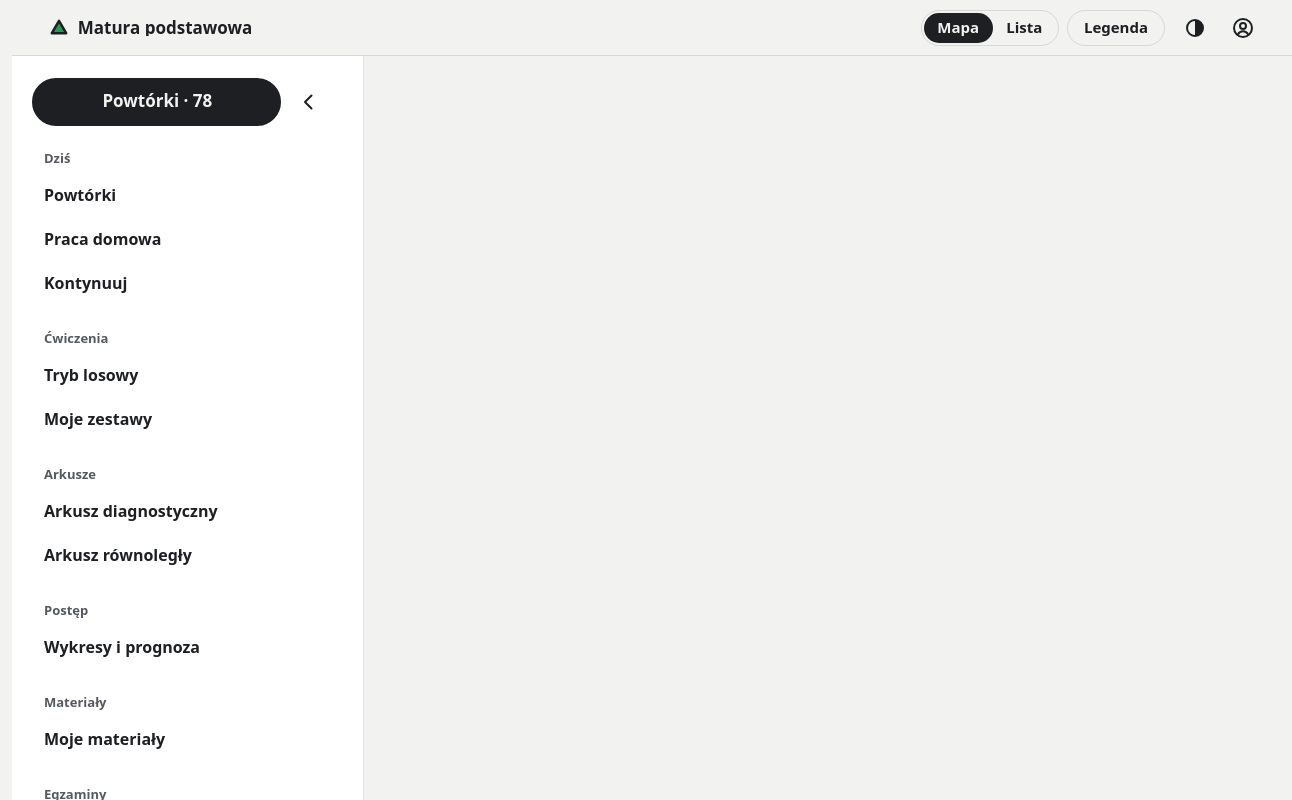
Test: ExamView on a computer › shows the legend in place of the menu, also from a folded menu
The width and height of the screenshot is (1292, 800).
Click the button named "Zwiń menu": (309, 102) [287, 80, 331, 124]
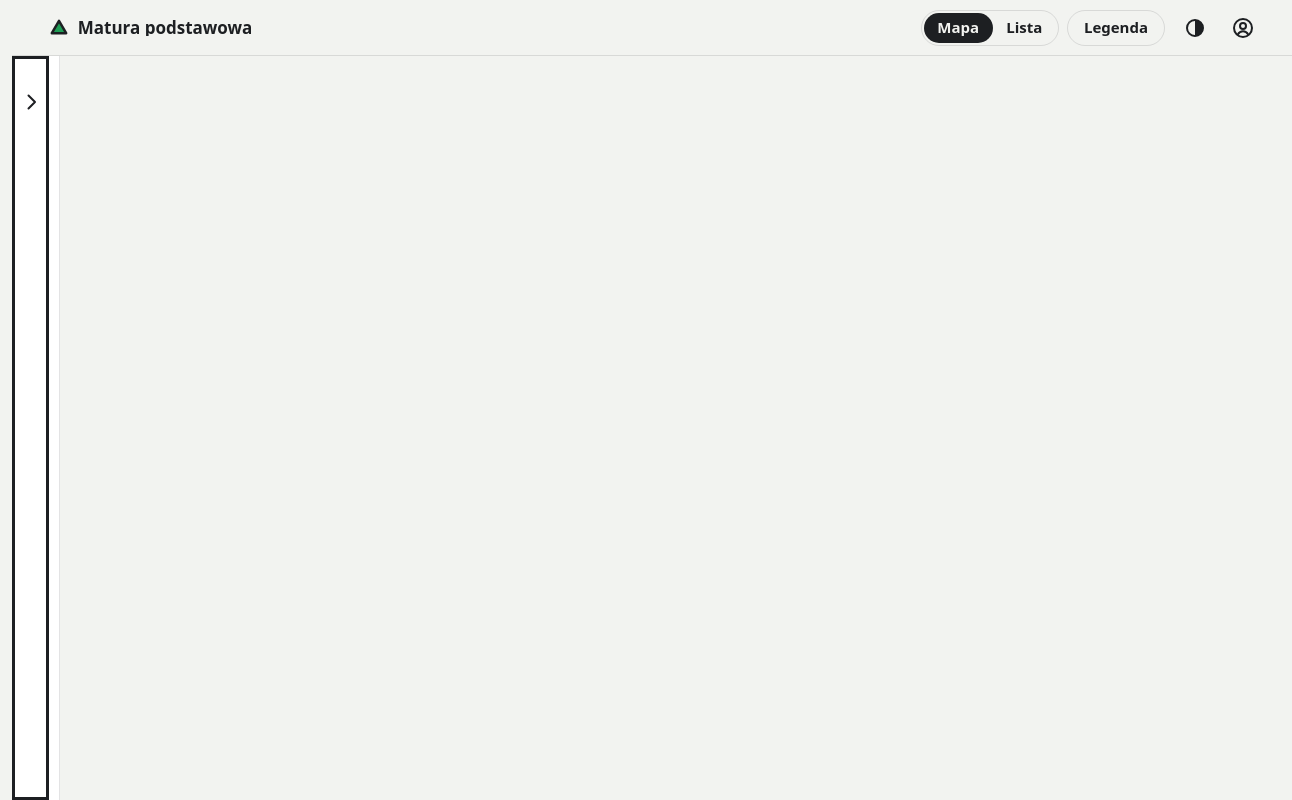
Click the button "Legenda": (1116, 28) [1067, 10, 1165, 46]
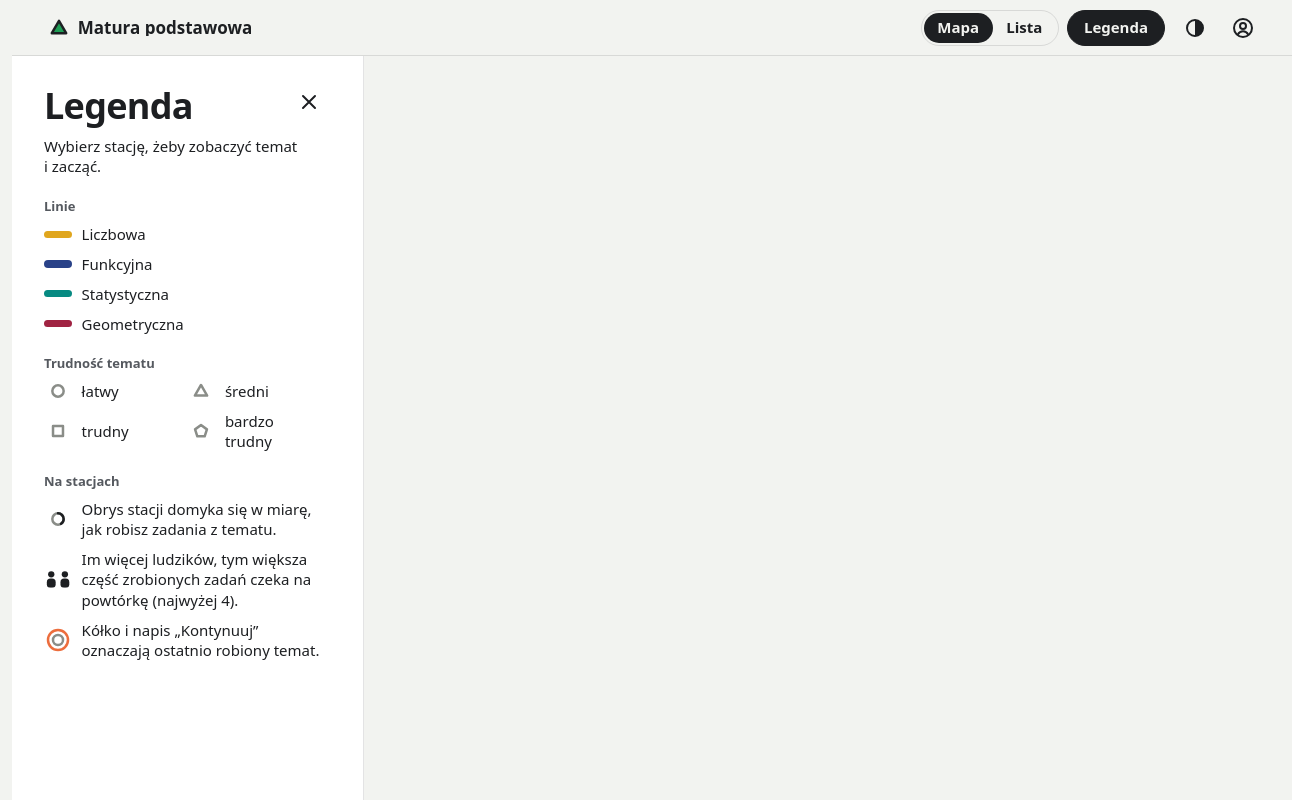
Expected: the heading "Legenda" is shown, [44, 88, 193, 124]
Click the button named "Zamknij legendę": (309, 102) [287, 80, 331, 124]
(page scrolled)
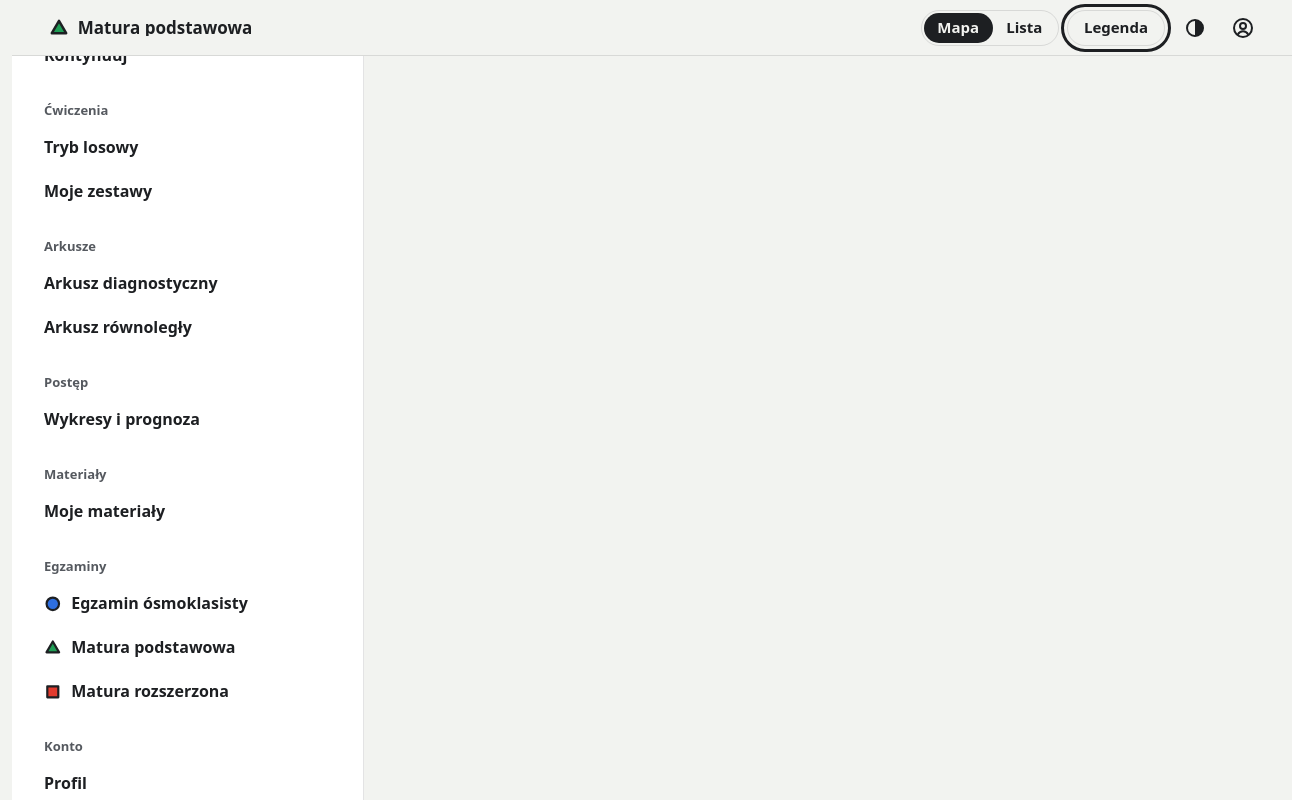
Expected: the navigation bar is shown, [44, 56, 248, 799]
